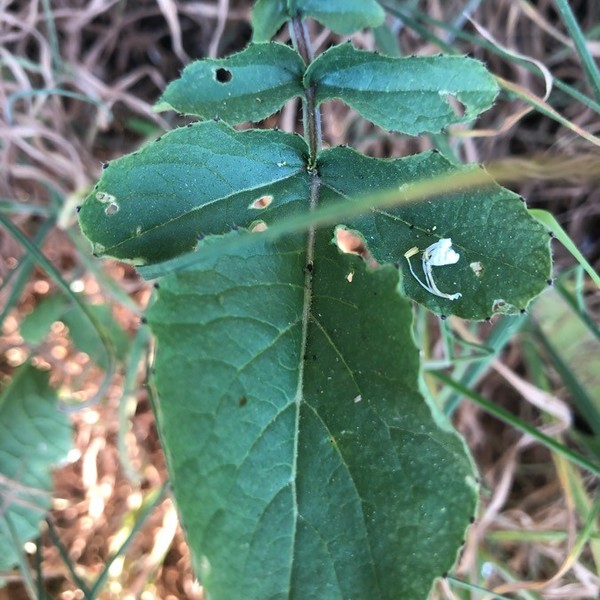obstacle: (85, 36, 515, 567)
